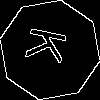K: (25, 25, 77, 68)
